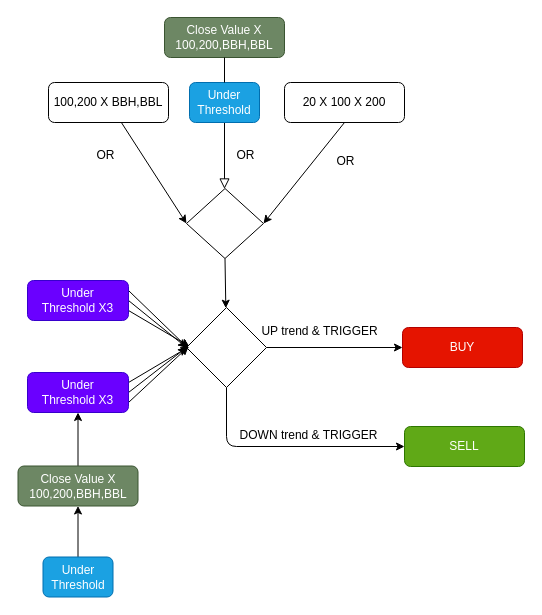
The diagram is 542 pixels wide and 615 high, and some of its shapes have lost their labels. The box of each missing label's shape, as (x1, y1, x2, y2) in pixels:
Trend? Up/Down: (186, 306, 266, 388)
TRIGGER: (186, 188, 264, 258)
